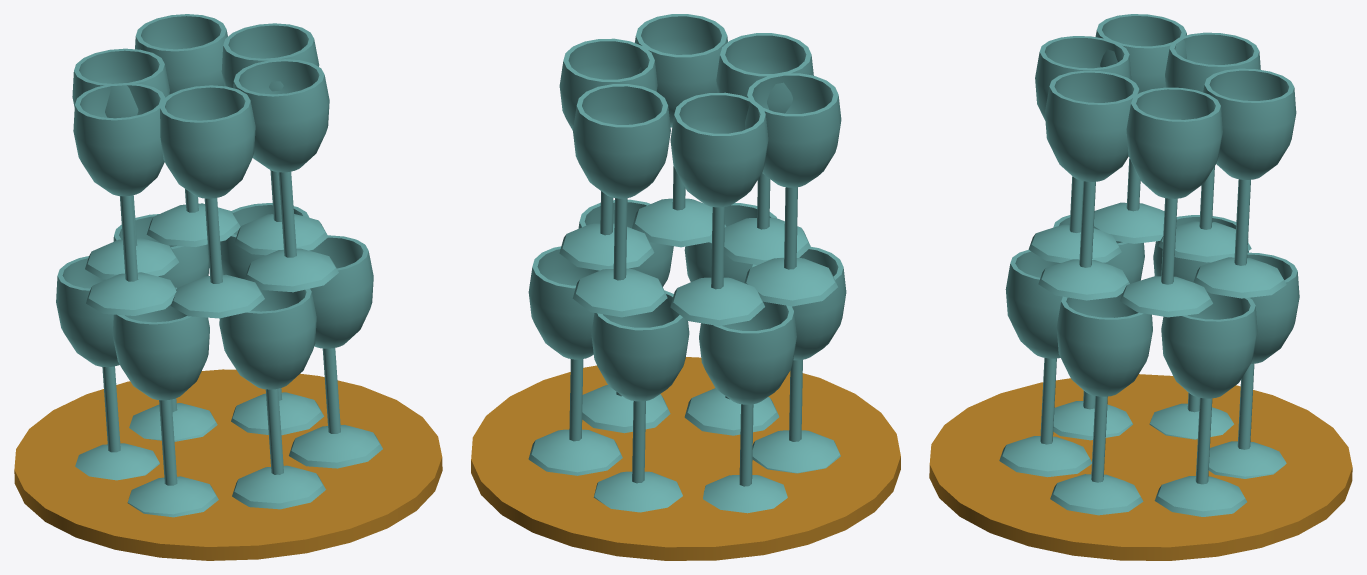
The model's file is pileverres.FBX.
3 views of the same model, side by side, from view 1: azimuth 30°, elevation 25°; view 2: azimuth 150°, elevation 25°; view 3: azimuth 270°, elevation 25° (orthographic).
Parts seen in each view (by area): view 1: ari; view 2: ari; view 3: ari.
Boxes of the visible parts, <box> form: ari: <box>14,14,442,560</box>; ari: <box>471,14,900,560</box>; ari: <box>929,14,1352,560</box>.
Size of the model in its own units: 80.12 by 80.14 by 85.07.
